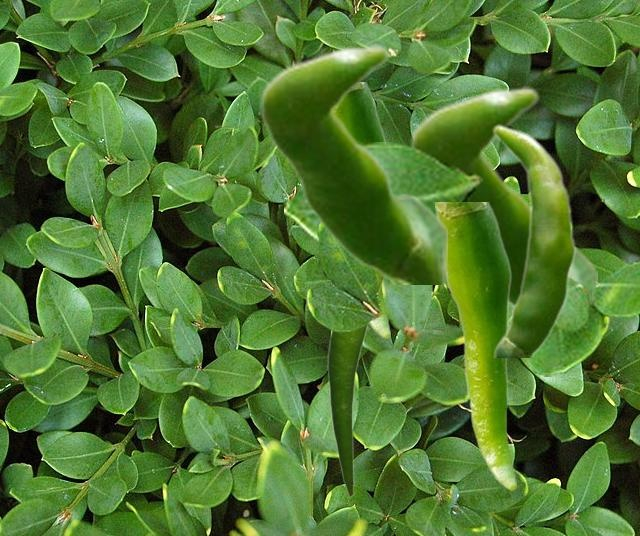green_chili: (259, 44, 446, 283), (409, 86, 596, 309), (435, 202, 515, 489), (491, 123, 576, 356), (336, 82, 389, 337), (327, 274, 381, 496)
